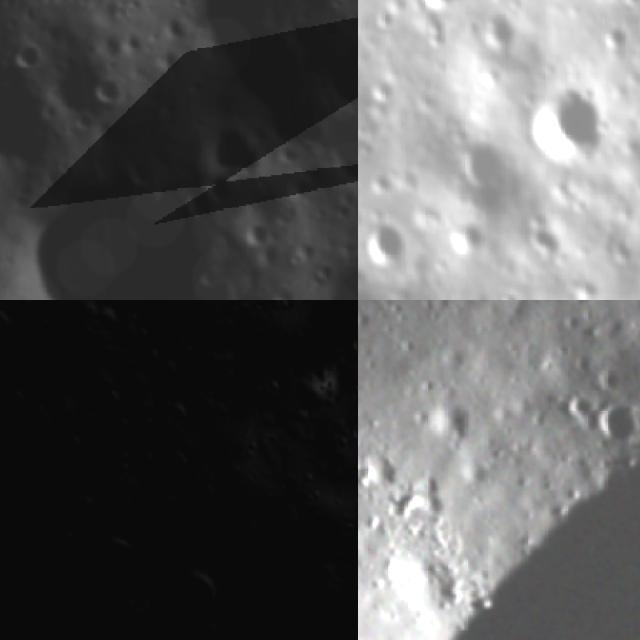crater: (0, 150, 251, 300), (0, 44, 69, 182), (518, 76, 610, 173), (188, 113, 276, 191), (156, 551, 238, 633), (83, 518, 164, 597), (308, 89, 358, 203), (77, 587, 166, 640), (314, 28, 358, 119), (423, 390, 485, 450), (589, 388, 640, 450), (358, 218, 408, 279), (286, 366, 338, 424), (32, 512, 82, 566), (271, 494, 317, 542), (150, 392, 197, 435), (556, 384, 602, 426), (588, 357, 631, 399), (0, 377, 34, 426), (87, 68, 126, 110), (149, 352, 187, 390), (161, 441, 198, 480), (95, 381, 132, 420), (0, 300, 23, 357), (87, 303, 124, 338), (302, 602, 338, 636), (22, 470, 52, 504), (422, 16, 449, 51), (256, 374, 286, 402), (2, 300, 41, 320), (338, 621, 358, 640), (490, 286, 515, 300), (185, 629, 216, 640), (617, 0, 640, 12), (352, 538, 358, 570)
